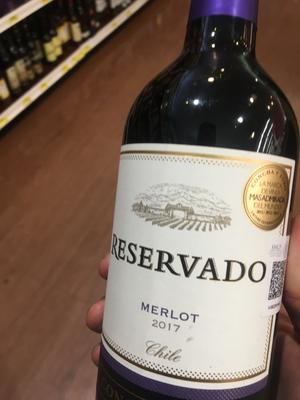reservado merlot: (108, 18, 298, 400)
